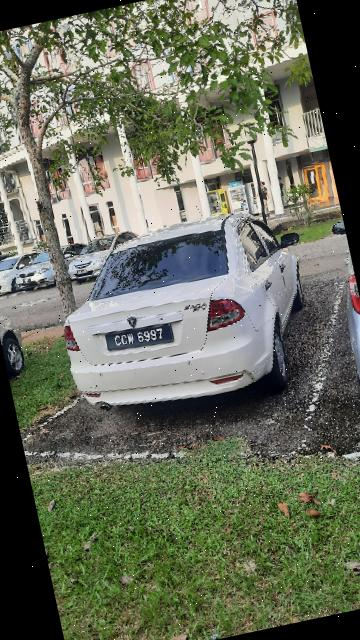License_Plate: (101, 316, 177, 359)
car: (40, 197, 330, 430), (57, 223, 149, 285), (7, 236, 78, 292), (1, 309, 35, 392), (1, 249, 37, 299)
